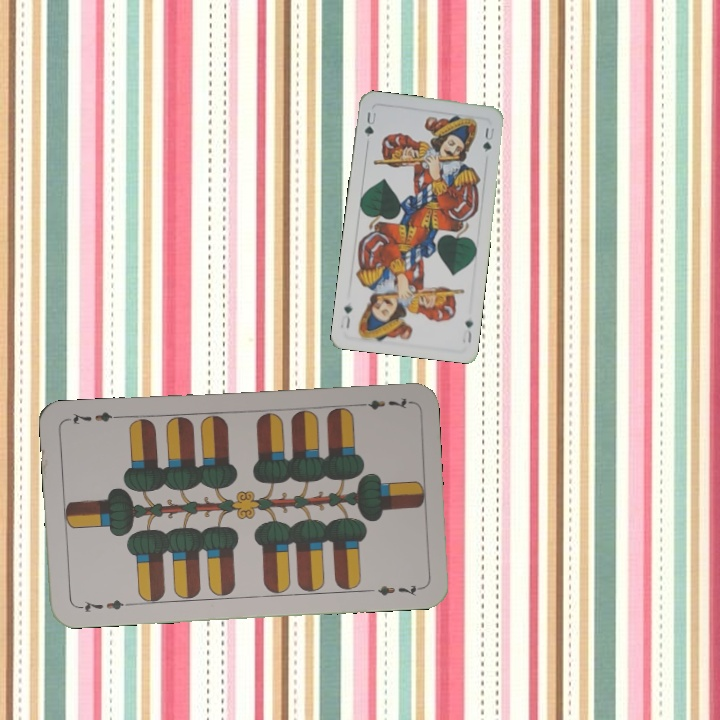E7: (74, 595, 133, 615), (353, 394, 412, 412)
GU: (360, 108, 379, 139), (461, 316, 475, 345)
